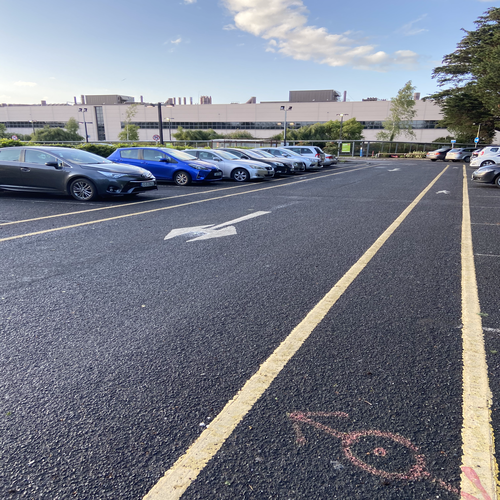Car: (1, 143, 156, 198), (150, 146, 218, 184), (219, 145, 271, 188), (267, 156, 292, 176)
